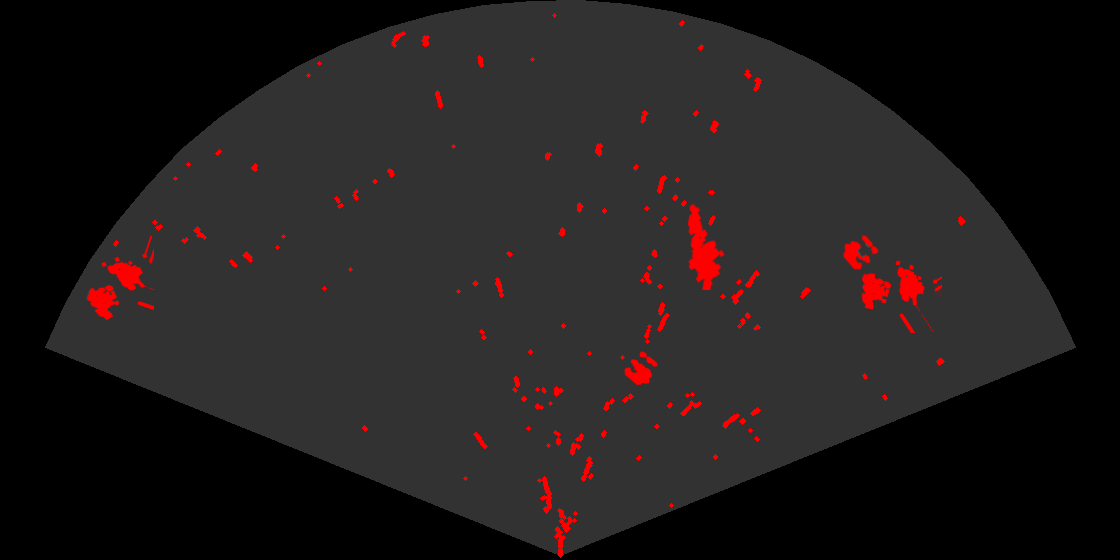ball: (842, 233, 880, 272), (623, 350, 659, 387)
cage: (860, 259, 942, 333), (86, 236, 154, 322)
frogman: (686, 202, 726, 290)
